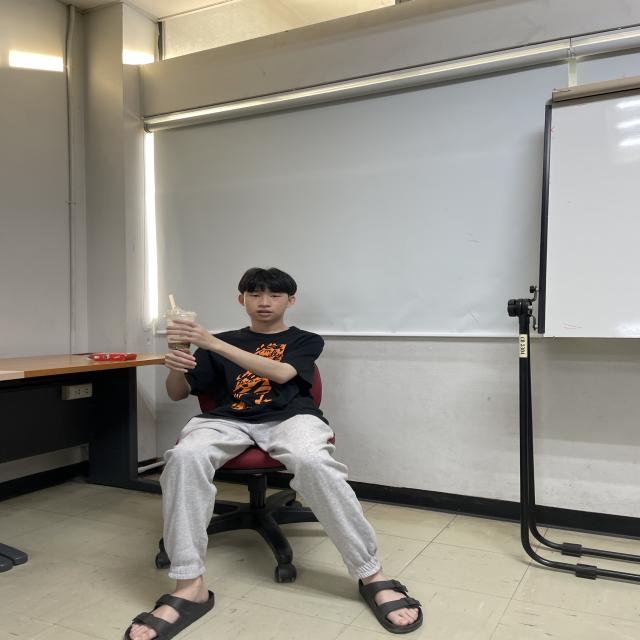cup: (163, 309, 199, 349)
